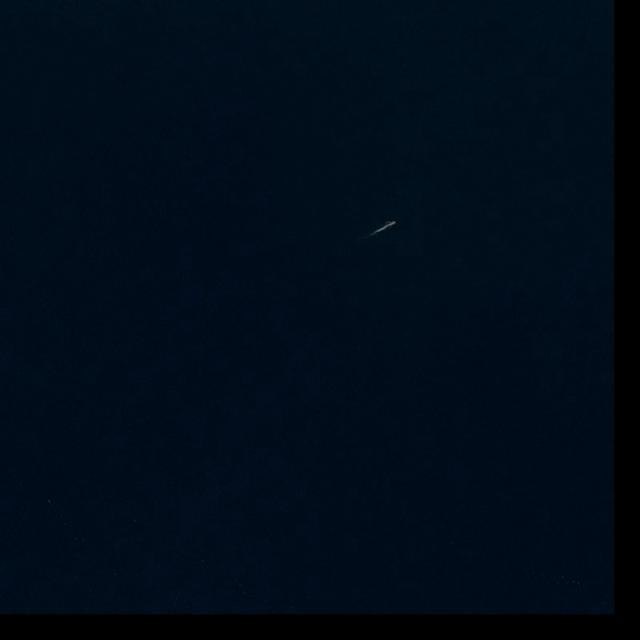ship: (383, 222, 398, 230)
